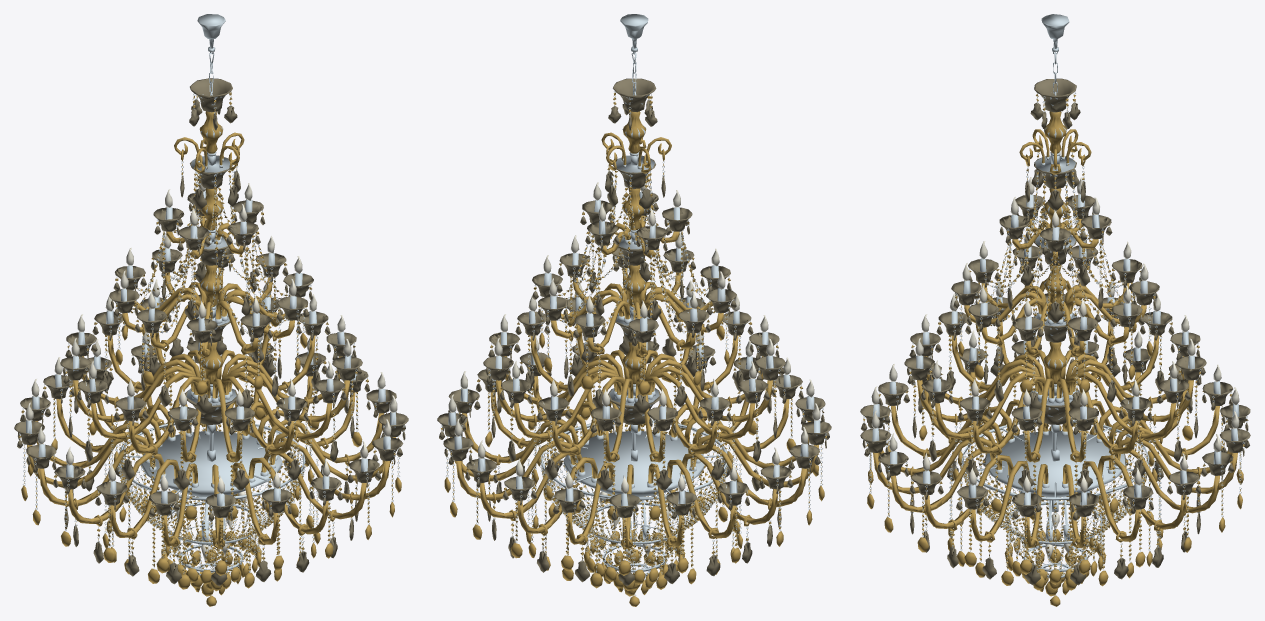
The model's file is chandelier.glb.
3 renders of one model, left to right at view 1: azimuth 30°, elevation 25°; view 2: azimuth 150°, elevation 25°; view 3: azimuth 270°, elevation 25°, orthographic.
Parts seen in each view (by area): view 1: chandelier; view 2: chandelier; view 3: chandelier.
Part boxes in pixels (bbox=[...]): chandelier: bbox=[14, 14, 408, 606]; chandelier: bbox=[437, 14, 831, 606]; chandelier: bbox=[860, 14, 1250, 606].
Bounding box in the file's own units: 1.65 × 2.73 × 1.65.
